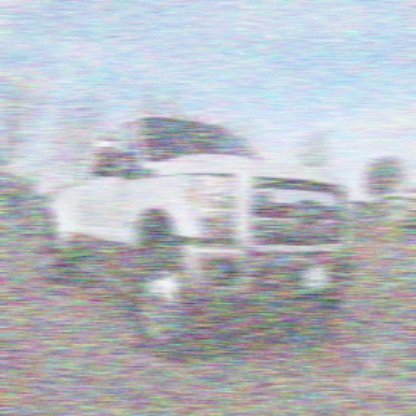Vehicle: (44, 111, 357, 363)
